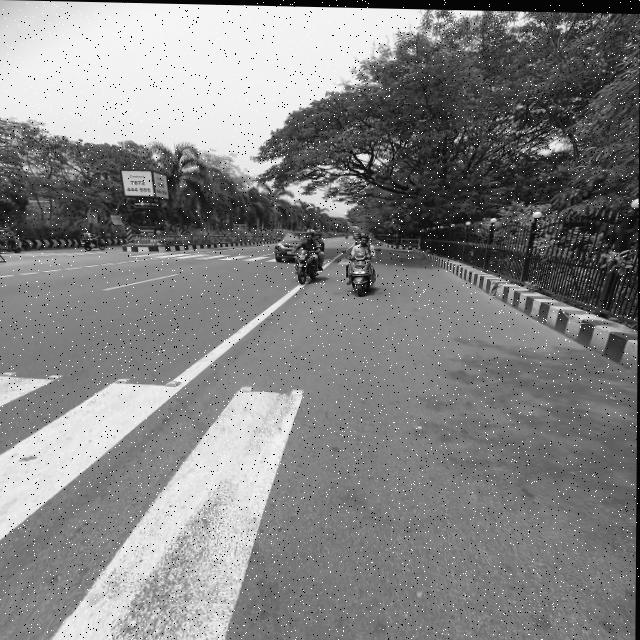bike: (346, 253, 380, 295), (293, 248, 330, 286)
